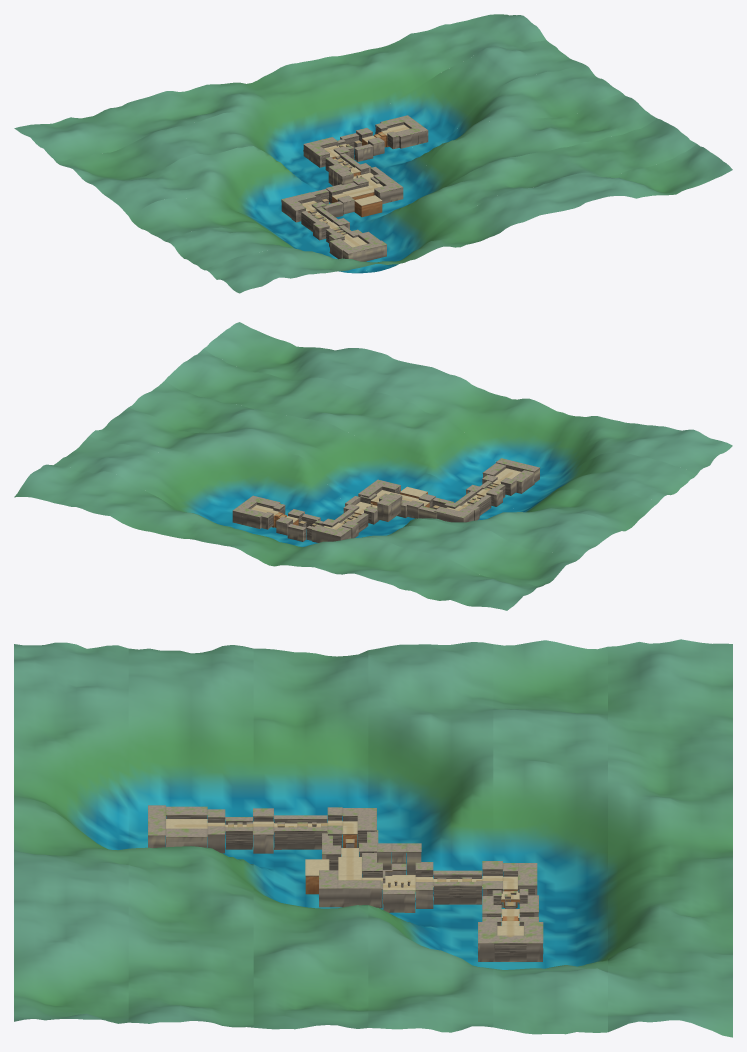
The model's file is tide_pools_terrain.glb.
3 renders of one model, top to bottom at view 1: azimuth 30°, elevation 25°; view 2: azimuth 150°, elevation 25°; view 3: azimuth 270°, elevation 25°, orthographic. The views are drawn at different scales.
Parts seen in each view (by area): view 1: backdrop_5, backdrop_4, backdrop_3, backdrop_1, backdrop_2, backdrop_0, terrain_F, terrain_D, terrain_A, terrain_H, terrain_J, terrain_E (+4 smaller); view 2: backdrop_0, backdrop_1, backdrop_5, backdrop_3, backdrop_2, backdrop_4, terrain_F, terrain_D, terrain_H, terrain_A, terrain_J, terrain_B (+3 smaller); view 3: backdrop_5, backdrop_1, backdrop_0, backdrop_3, backdrop_4, backdrop_2, terrain_F, terrain_B, terrain_J, terrain_A, terrain_G, terrain_C (+4 smaller).
Boxes of the visible parts, bbox=[...] form: backdrop_5: bbox=[14, 14, 545, 160]; backdrop_4: bbox=[54, 40, 581, 183]; backdrop_3: bbox=[89, 63, 621, 220]; backdrop_1: bbox=[165, 118, 696, 272]; backdrop_2: bbox=[128, 92, 657, 247]; backdrop_0: bbox=[204, 144, 732, 293]; terrain_F: bbox=[328, 163, 403, 204]; terrain_D: bbox=[281, 185, 354, 218]; terrain_A: bbox=[329, 231, 386, 261]; terrain_H: bbox=[303, 133, 373, 162]; terrain_J: bbox=[380, 115, 428, 148]; terrain_E: bbox=[337, 182, 382, 217]; backdrop_0: bbox=[204, 322, 732, 477]; backdrop_1: bbox=[164, 348, 696, 509]; backdrop_5: bbox=[14, 464, 545, 610]; backdrop_3: bbox=[89, 407, 620, 555]; backdrop_2: bbox=[129, 381, 657, 531]; backdrop_4: bbox=[53, 436, 581, 586]; terrain_F: bbox=[343, 479, 402, 524]; terrain_D: bbox=[407, 493, 473, 522]; terrain_H: bbox=[287, 514, 351, 542]; terrain_A: bbox=[482, 458, 539, 493]; terrain_J: bbox=[232, 495, 280, 528]; terrain_B: bbox=[466, 474, 516, 506]; backdrop_5: bbox=[608, 639, 732, 1037]; backdrop_1: bbox=[128, 645, 253, 1027]; backdrop_0: bbox=[14, 642, 128, 1023]; backdrop_3: bbox=[368, 642, 493, 1032]; backdrop_4: bbox=[493, 640, 607, 1034]; backdrop_2: bbox=[253, 648, 368, 1029]; terrain_F: bbox=[319, 843, 433, 912]; terrain_B: bbox=[207, 808, 273, 853]; terrain_J: bbox=[478, 922, 543, 961]; terrain_A: bbox=[148, 805, 207, 848]; terrain_G: bbox=[433, 861, 502, 907]; terrain_C: bbox=[274, 807, 342, 849].
Bounding box in the file's own units: 609 × 60.51 × 483.
